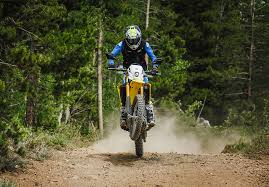motorcycle: (100, 48, 166, 157)
